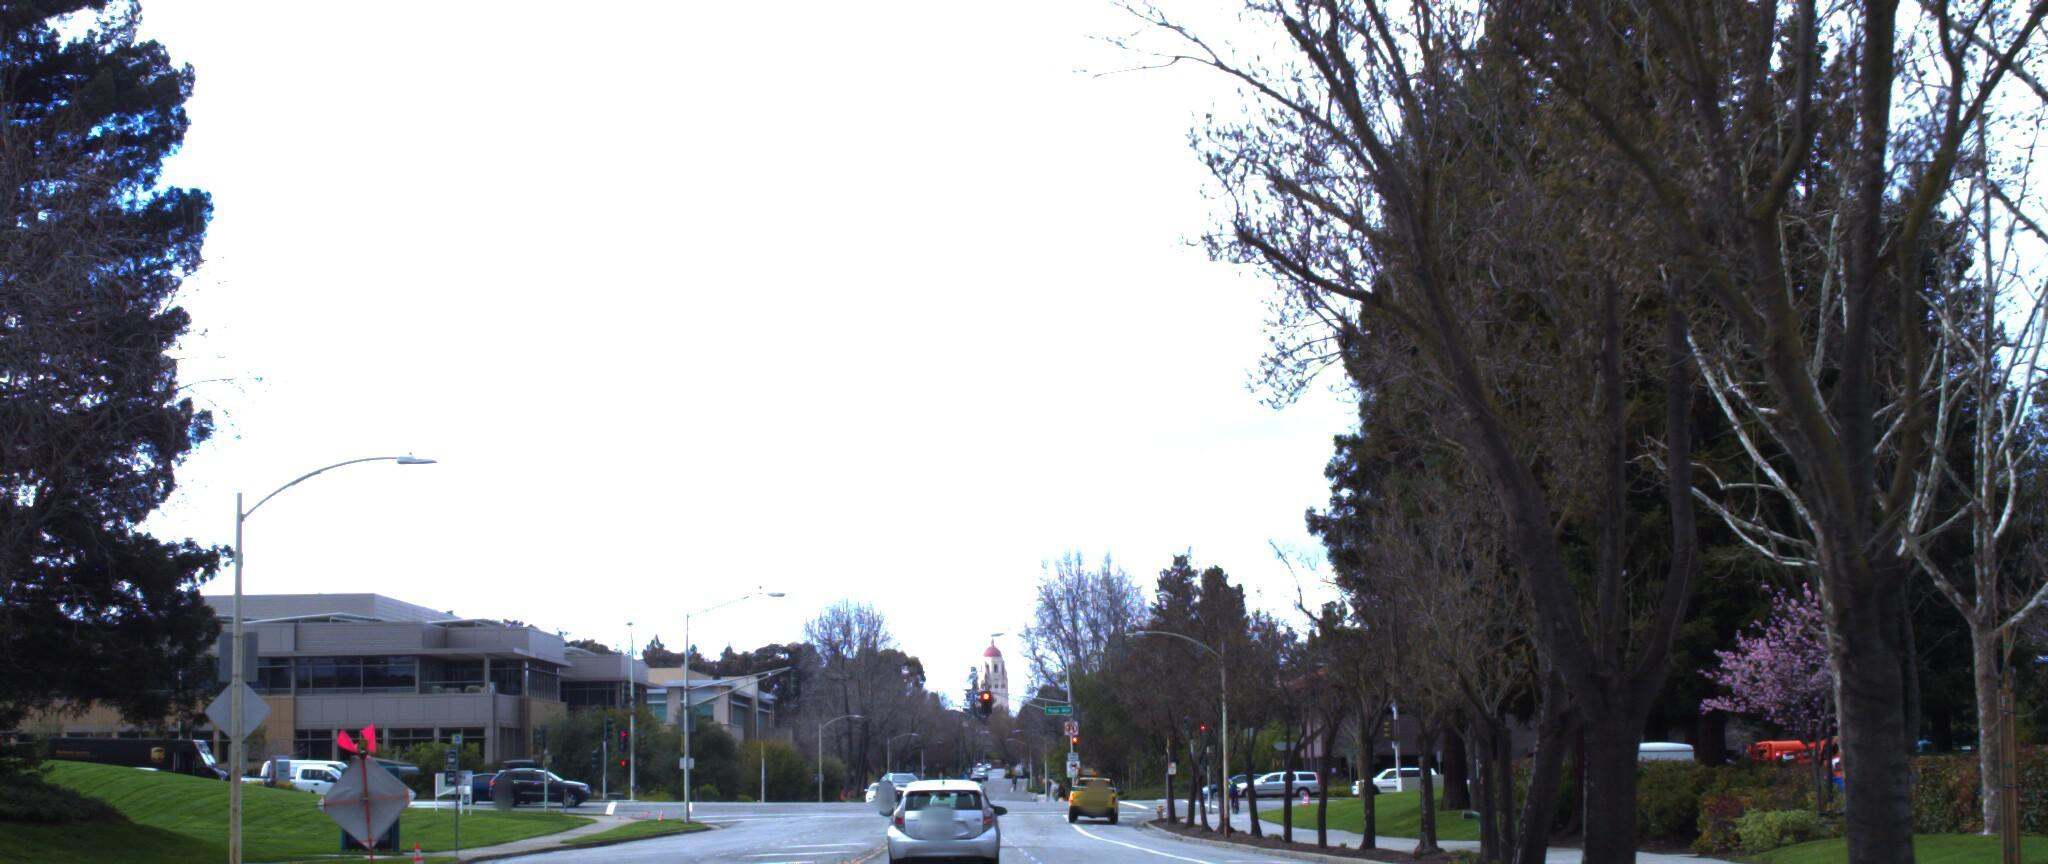car: (879, 761, 1006, 864)
